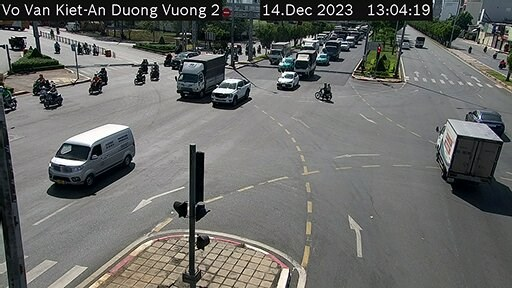car: (47, 122, 141, 192), (216, 75, 249, 115), (470, 101, 510, 133), (280, 70, 297, 94)
motorbike: (315, 80, 331, 103)
truck: (418, 114, 502, 180), (182, 51, 228, 101), (264, 36, 282, 69), (294, 48, 314, 77)
